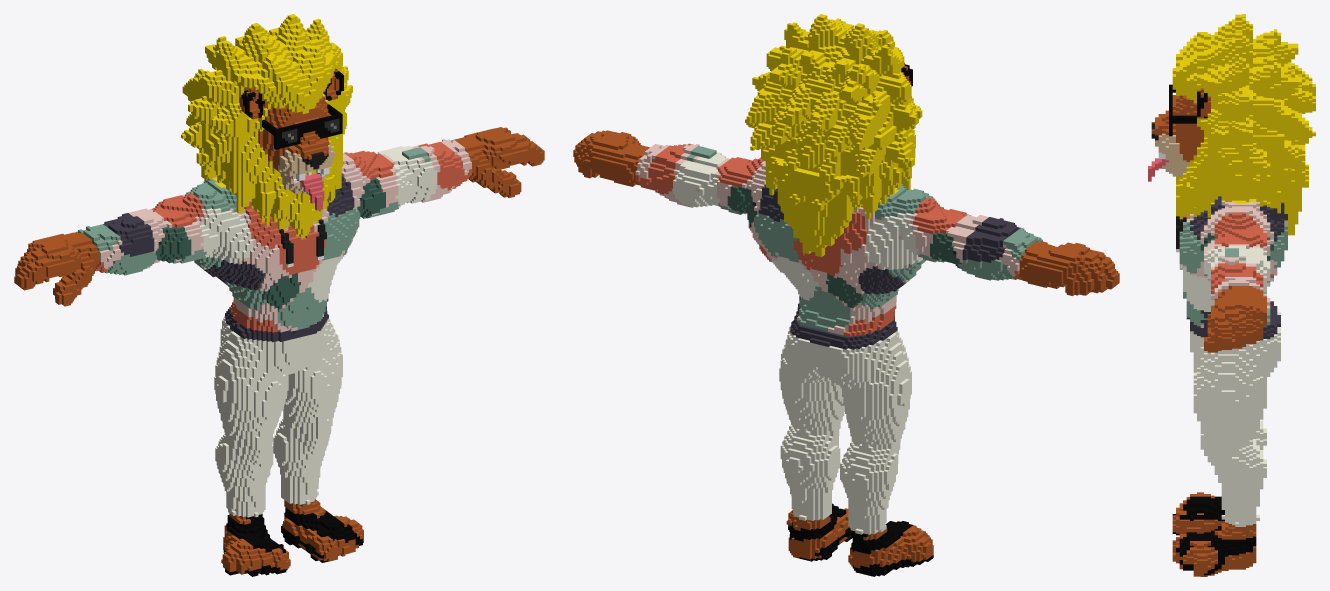
The picture shows the model from 3 angles, left to right: view 1: azimuth 30°, elevation 25°; view 2: azimuth 150°, elevation 25°; view 3: azimuth 270°, elevation 25°; orthographic projection. The views are drawn at different scales.
Visible parts, largest first — view 1: tongue_out; view 2: tongue_out; view 3: tongue_out.
Part boxes in pixels (<box>): tongue_out: <box>14,14,544,576</box>; tongue_out: <box>573,14,1119,576</box>; tongue_out: <box>1148,14,1315,576</box>.
Bounding box in the file's own units: 17.2 × 16.5 × 4.8.
Materials: 5 (5 with a texture image).
